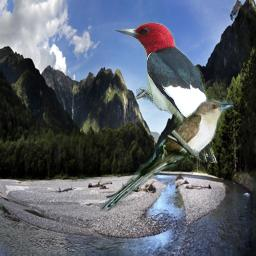Cuckoo: (98, 99, 236, 216)
Woodpecker: (113, 22, 220, 163)
